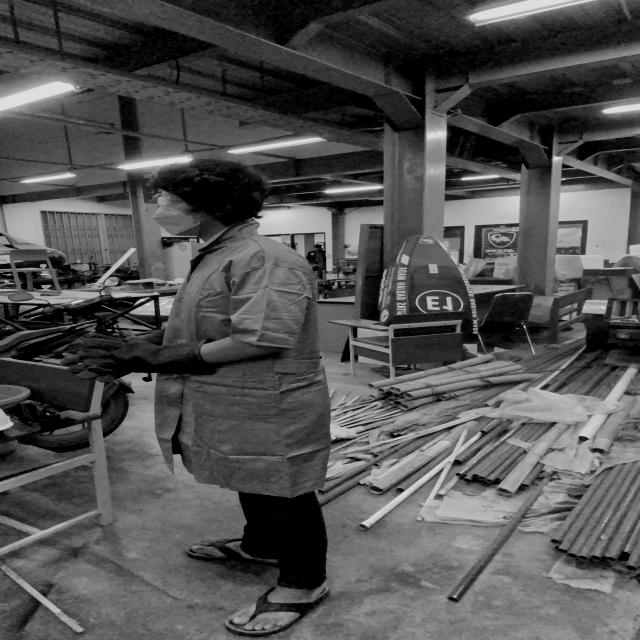face_mask: (144, 190, 206, 237)
glasses: (154, 192, 198, 212)
hand_glove: (81, 331, 169, 380)
head_nohelmet: (148, 155, 263, 203)
person: (53, 157, 355, 640)
